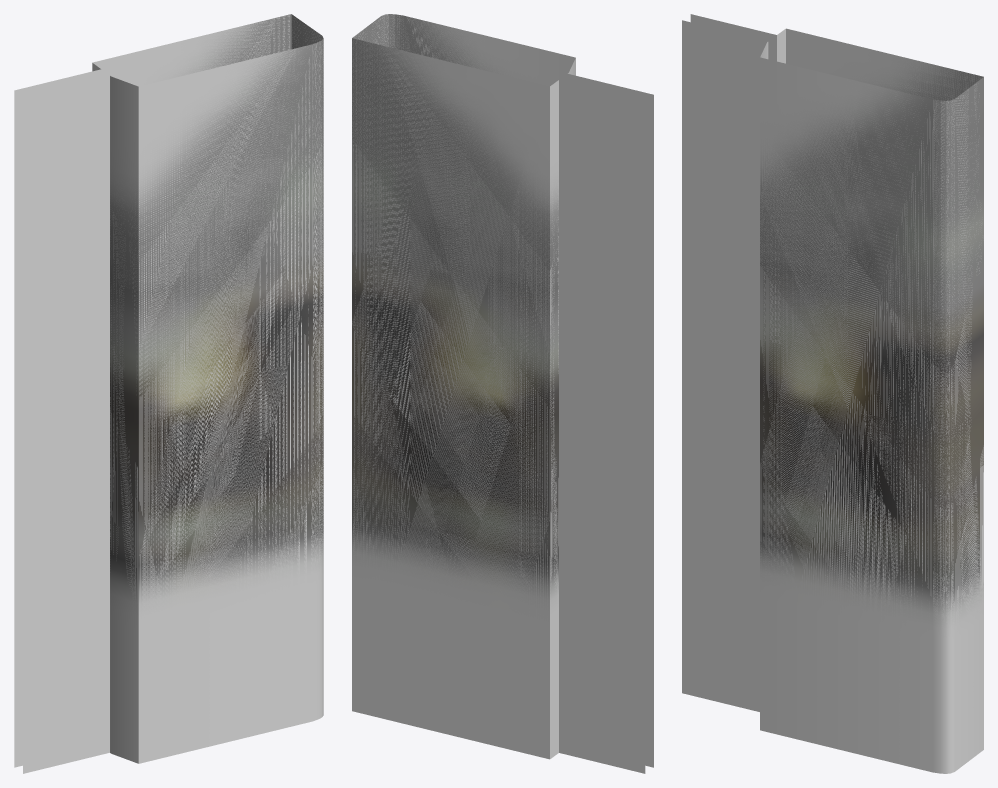
The model's file is original-86.obj.
3 renders of one model, left to right at view 1: azimuth 30°, elevation 25°; view 2: azimuth 150°, elevation 25°; view 3: azimuth 330°, elevation 25°, orthographic.
Parts seen in each view (by area): view 1: DF_21_CR2/DF_21_CR/mesh45/mesh45-geometry#mesh45-geometry; view 2: DF_21_CR2/DF_21_CR/mesh45/mesh45-geometry#mesh45-geometry; view 3: DF_21_CR2/DF_21_CR/mesh45/mesh45-geometry#mesh45-geometry.
Boxes of the visible parts, x1=… form: DF_21_CR2/DF_21_CR/mesh45/mesh45-geometry#mesh45-geometry: x1=14, y1=14, x2=323, y2=773; DF_21_CR2/DF_21_CR/mesh45/mesh45-geometry#mesh45-geometry: x1=352, y1=14, x2=653, y2=773; DF_21_CR2/DF_21_CR/mesh45/mesh45-geometry#mesh45-geometry: x1=682, y1=14, x2=983, y2=773.
Bounding box in the file's own units: 0.1444 × 0.3256 × 0.0316.
